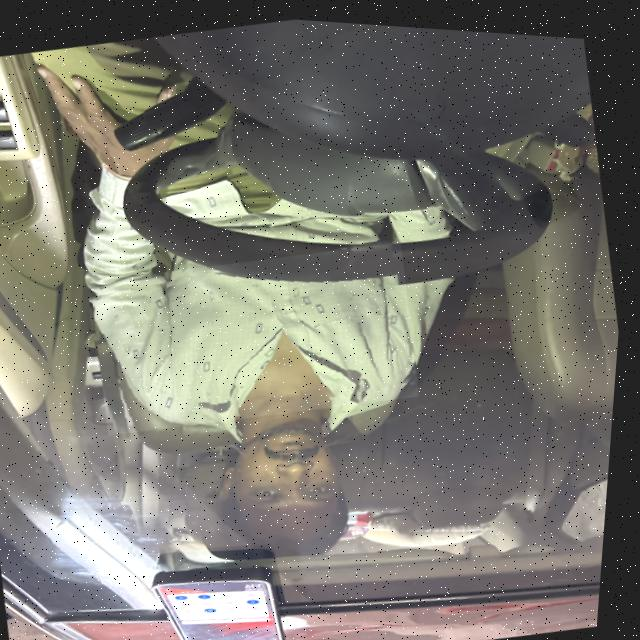no-seatbelt: (84, 219, 433, 449)
